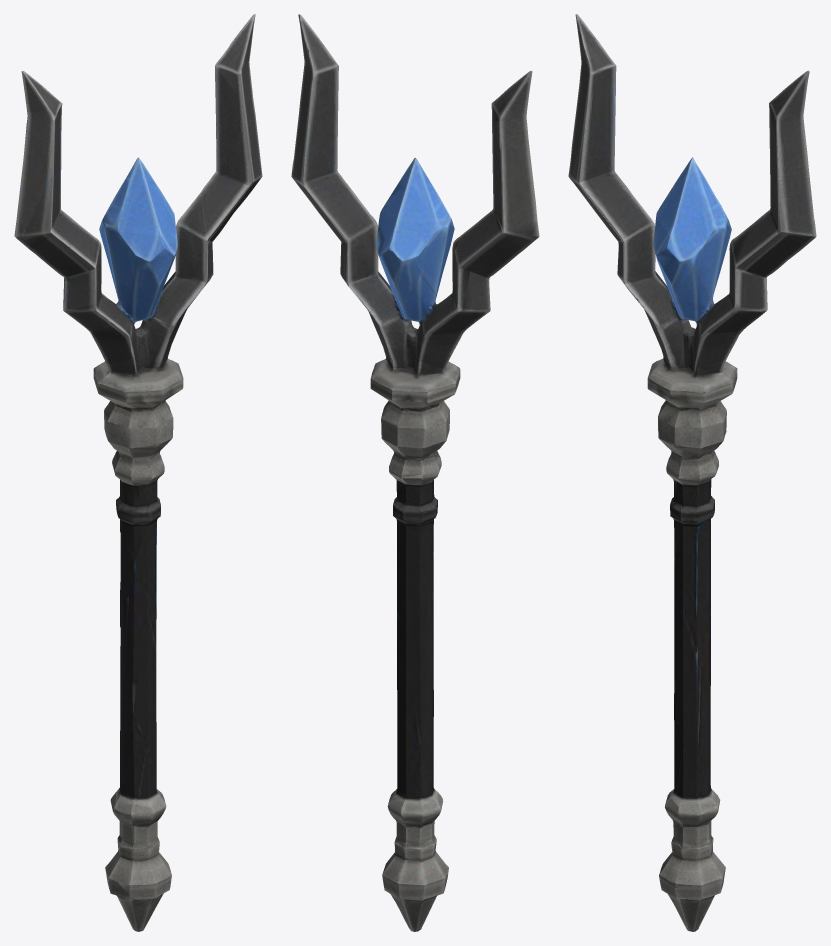
Rendered from storm_staff.glb.
The picture shows the model from 3 angles, left to right: view 1: azimuth 30°, elevation 25°; view 2: azimuth 150°, elevation 25°; view 3: azimuth 330°, elevation 25°; orthographic projection.
Bounding box in the file's own units: 0.6291 × 2.15 × 0.2271.
1 material, 1 textured.
